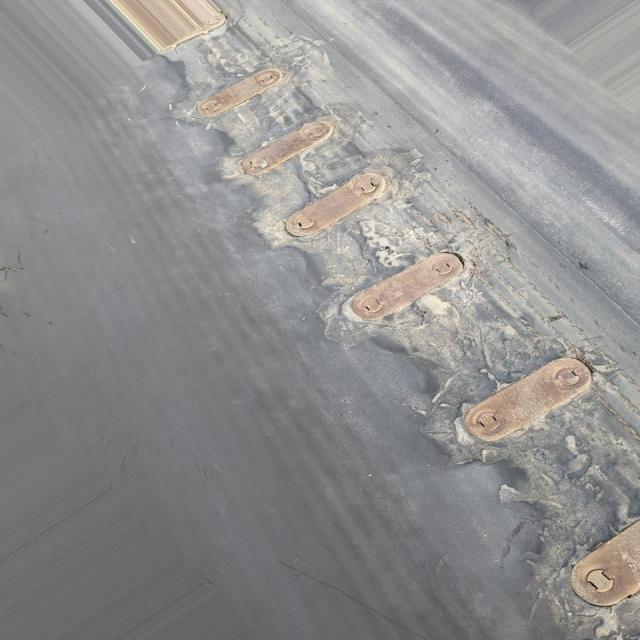patch work: (138, 3, 640, 638)
